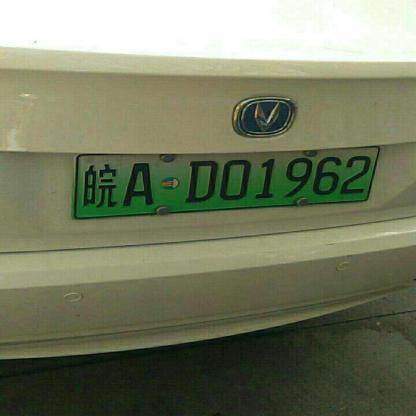lp: (69, 148, 377, 216)
